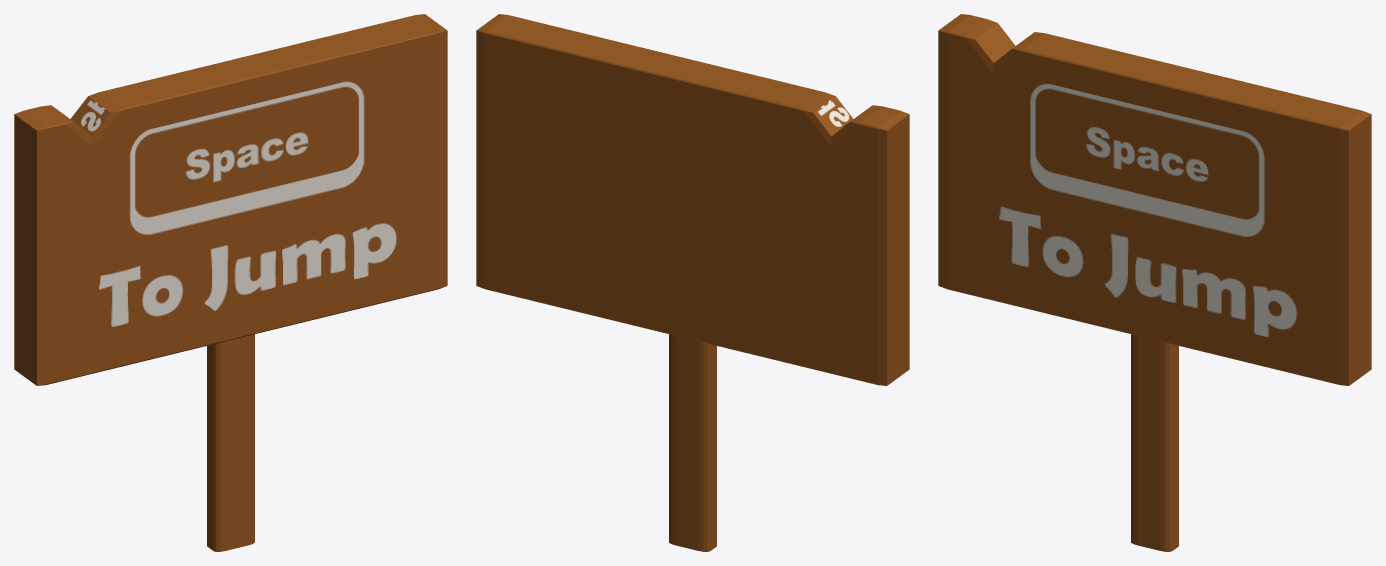
Rendered from JumpSign.fbx.
3 renders of one model, left to right at view 1: azimuth 30°, elevation 25°; view 2: azimuth 150°, elevation 25°; view 3: azimuth 330°, elevation 25°, orthographic.
Parts seen in each view (by area): view 1: JumpSign; view 2: JumpSign; view 3: JumpSign.
Boxes of the visible parts, x1,y1,x2,y2 form: JumpSign: (14,14,447,551); JumpSign: (476,14,909,551); JumpSign: (938,14,1371,551).
Size of the model in its own units: 100 by 110 by 10.
